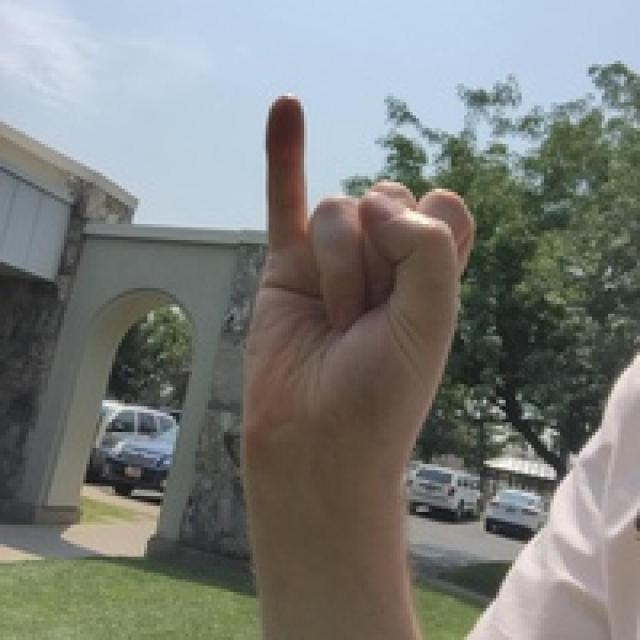I: (184, 52, 554, 522)
